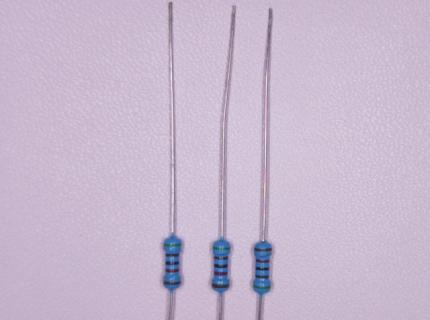Black band: (166, 261, 179, 265), (256, 267, 269, 271), (215, 264, 227, 268)
Brown band: (212, 284, 229, 288), (255, 248, 272, 252), (164, 281, 180, 285), (214, 256, 228, 260), (166, 253, 179, 257), (255, 275, 269, 278)
Green band: (213, 247, 230, 251), (164, 243, 180, 247), (254, 286, 270, 290)
Red band: (256, 259, 270, 263), (166, 269, 178, 272), (215, 272, 227, 275)
